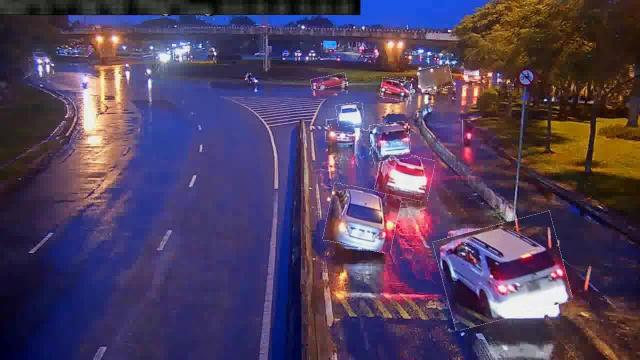Bike: (462, 120, 474, 148)
Car: (438, 218, 568, 324), (325, 185, 399, 250), (376, 152, 434, 200), (370, 122, 410, 162), (336, 102, 364, 126), (326, 120, 356, 142), (381, 78, 411, 100), (311, 74, 347, 90)
Truck: (419, 64, 453, 92)
